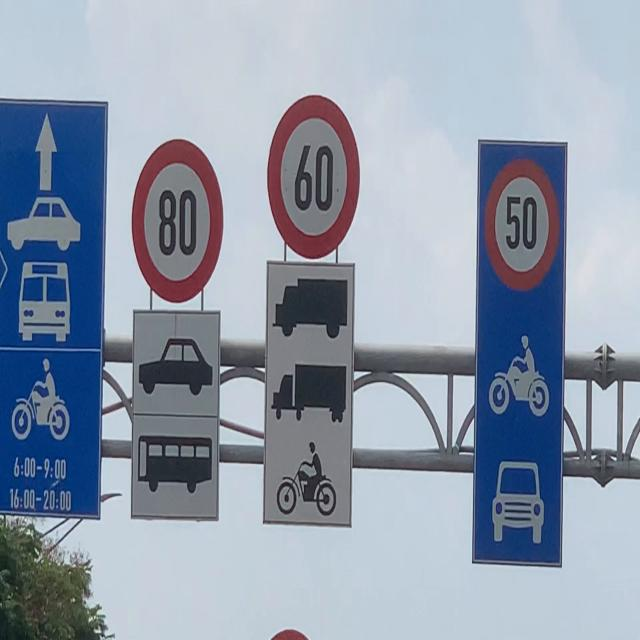Toc do toi da: (267, 93, 361, 261), (130, 138, 225, 304), (485, 158, 561, 292)
